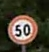limite 50: (6, 14, 39, 44)
